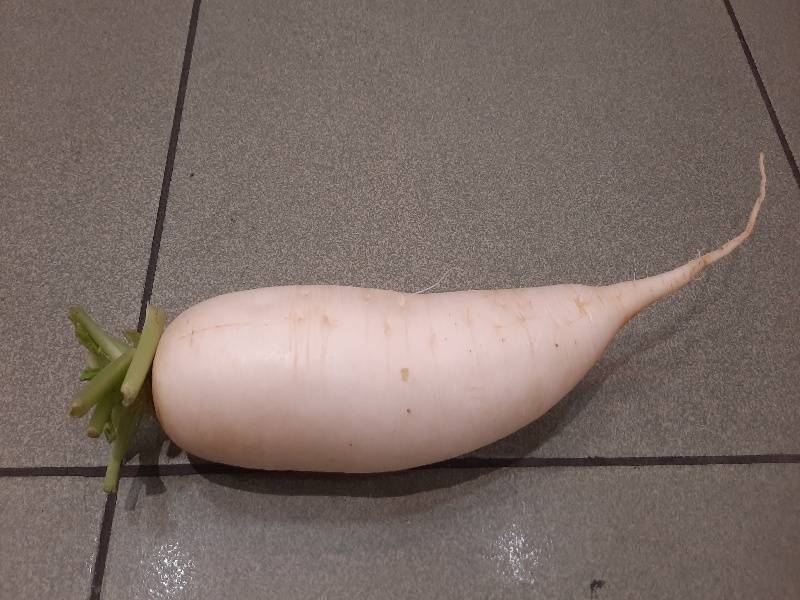vege: (63, 221, 753, 491)
